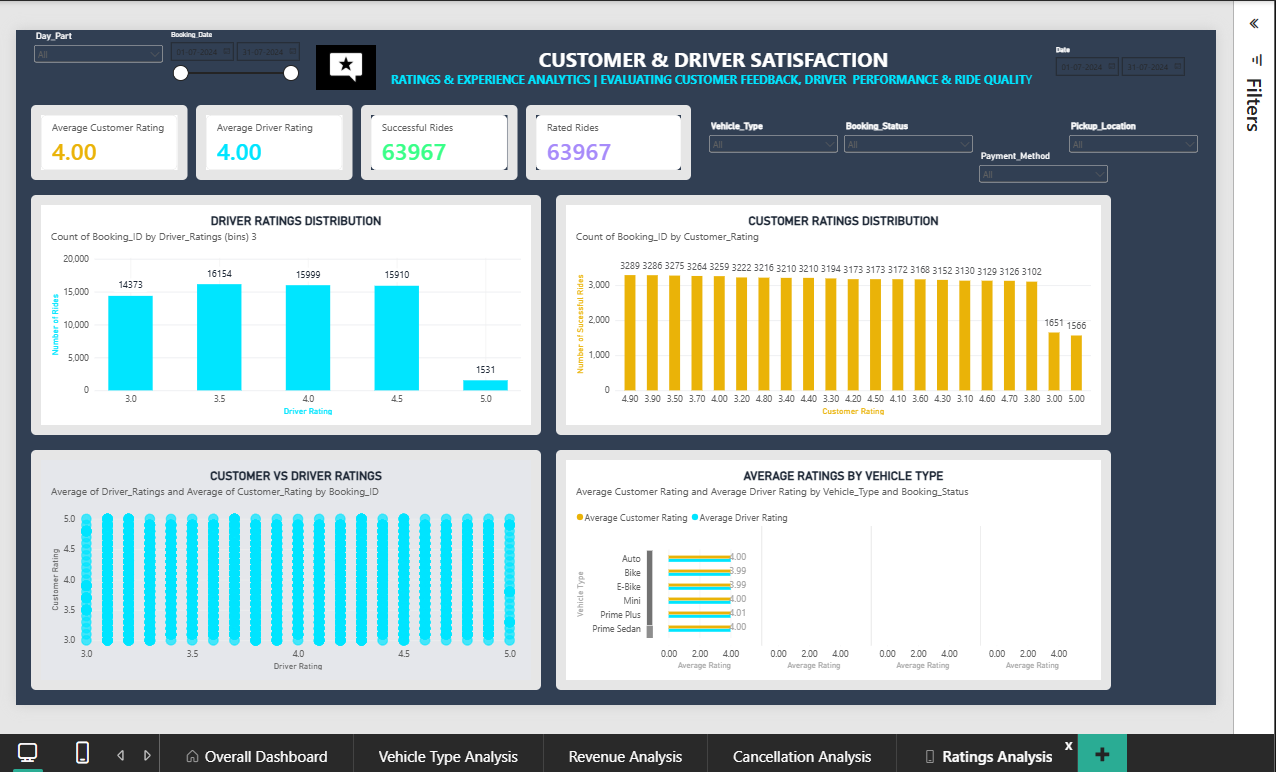

This screenshot's page, from the dashboard's own definition file:
{"tool":"powerbi","page":{"name":"Ratings Analysis","canvas":[1920,1080],"ordinal":4},"visuals":[{"type":"textbox","box":[600,24,1032,72],"z":0},{"type":"image","box":[480,24,96,72],"z":1},{"type":"cardVisual","fields":{"Data":["ola_ride_insights ola_rides.Average Customer Rating"]},"box":[24,120,250,120],"z":2},{"type":"cardVisual","fields":{"Data":["ola_ride_insights ola_rides.Average Driver Rating"]},"box":[288,120,250,120],"z":3},{"type":"cardVisual","fields":{"Data":["ola_ride_insights ola_rides.Successful Rides"]},"box":[552,120,250,120],"z":4},{"type":"cardVisual","fields":{"Data":["ola_ride_insights ola_rides.Rated Rides"]},"box":[816,120,264,120],"z":5},{"type":"clusteredColumnChart","title":"CUSTOMER RATINGS DISTRIBUTION","fields":{"Category":["ola_ride_insights ola_rides.Customer_Rating"],"Y":["CountNonNull(ola_ride_insights ola_rides.Booking_ID)"]},"box":[864,264,888,384],"z":7},{"type":"clusteredColumnChart","title":"DRIVER RATINGS DISTRIBUTION","fields":{"Category":["ola_ride_insights ola_rides.Driver_Ratings (bins) 3"],"Y":["CountNonNull(ola_ride_insights ola_rides.Booking_ID)"]},"box":[24,264,816,384],"z":8},{"type":"scatterChart","title":"CUSTOMER VS DRIVER RATINGS","fields":{"Category":["ola_ride_insights ola_rides.Booking_ID"],"X":["Avg(ola_ride_insights ola_rides.Driver_Ratings)"],"Y":["Avg(ola_ride_insights ola_rides.Customer_Rating)"]},"box":[24,672,816,384],"z":9},{"type":"clusteredBarChart","title":"AVERAGE RATINGS BY VEHICLE TYPE","fields":{"Category":["ola_ride_insights ola_rides.Vehicle_Type"],"Rows":["ola_ride_insights ola_rides.Booking_Status"],"Y":["ola_ride_insights ola_rides.Average Customer Rating","ola_ride_insights ola_rides.Average Driver Rating"]},"box":[864,672,888,384],"z":10},{"type":"slicer","fields":{"Values":["ola_ride_insights ola_rides.Booking_Date"]},"box":[240,0,216,96],"z":11},{"type":"slicer","fields":{"Values":["Calendar.Date"]},"box":[1656,24,264,72],"z":12},{"type":"slicer","fields":{"Values":["ola_ride_insights ola_rides.Vehicle_Type"]},"box":[1104,144,216,72],"z":13},{"type":"slicer","fields":{"Values":["ola_ride_insights ola_rides.Booking_Status"]},"box":[1320,144,216,72],"z":14},{"type":"slicer","fields":{"Values":["ola_ride_insights ola_rides.Pickup_Location"]},"box":[1680,144,216,72],"z":15},{"type":"slicer","fields":{"Values":["ola_ride_insights ola_rides.Payment_Method"]},"box":[1536,192,216,72],"z":16},{"type":"slicer","fields":{"Values":["ola_ride_insights ola_rides.Day_Part"]},"box":[24,0,216,72],"z":17}]}

Visuals, with their boxes on the page's 1920x1080 design canvas (x1, y1, x2, y2). These are canvas units, not pixel positions in the 1276x772 screenshot, which may show the page scaled, cropped or inside an application window:
textbox: 600/24/1632/96
image: 480/24/576/96
cardVisual - ola_ride_insights ola_rides.Average Customer Rating: 24/120/274/240
cardVisual - ola_ride_insights ola_rides.Average Driver Rating: 288/120/538/240
cardVisual - ola_ride_insights ola_rides.Successful Rides: 552/120/802/240
cardVisual - ola_ride_insights ola_rides.Rated Rides: 816/120/1080/240
"CUSTOMER RATINGS DISTRIBUTION" clusteredColumnChart: 864/264/1752/648
"DRIVER RATINGS DISTRIBUTION" clusteredColumnChart: 24/264/840/648
"CUSTOMER VS DRIVER RATINGS" scatterChart: 24/672/840/1056
"AVERAGE RATINGS BY VEHICLE TYPE" clusteredBarChart: 864/672/1752/1056
slicer - ola_ride_insights ola_rides.Booking_Date: 240/0/456/96
slicer - Calendar.Date: 1656/24/1920/96
slicer - ola_ride_insights ola_rides.Vehicle_Type: 1104/144/1320/216
slicer - ola_ride_insights ola_rides.Booking_Status: 1320/144/1536/216
slicer - ola_ride_insights ola_rides.Pickup_Location: 1680/144/1896/216
slicer - ola_ride_insights ola_rides.Payment_Method: 1536/192/1752/264
slicer - ola_ride_insights ola_rides.Day_Part: 24/0/240/72
